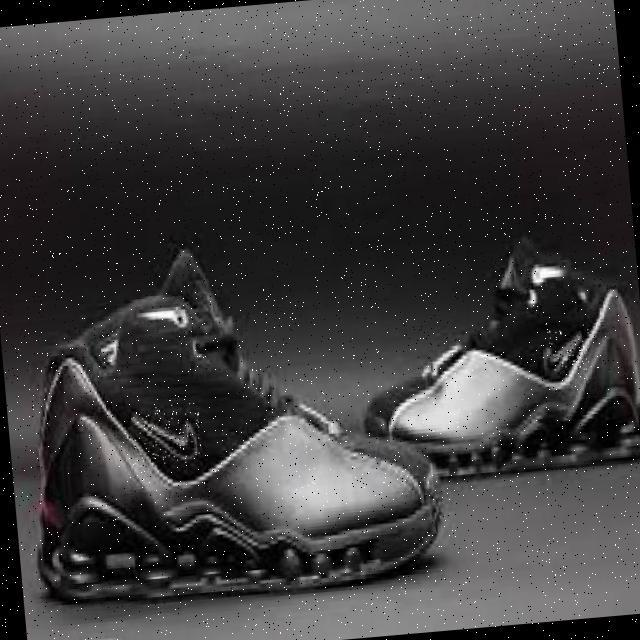Nike: (130, 403, 203, 469), (544, 319, 591, 372)
